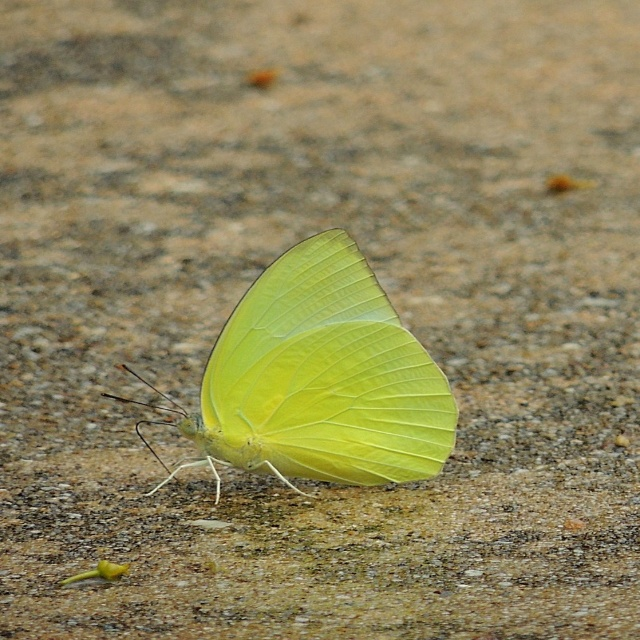Butterfly: (110, 222, 439, 505)
